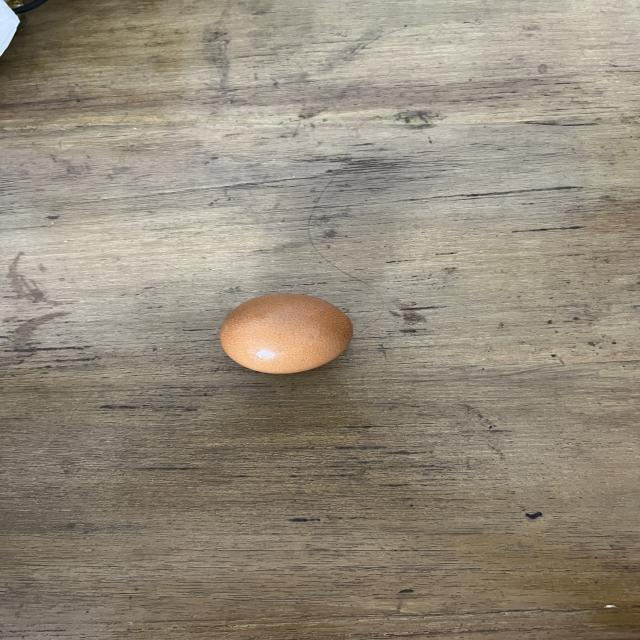Egg: (214, 287, 360, 378)
